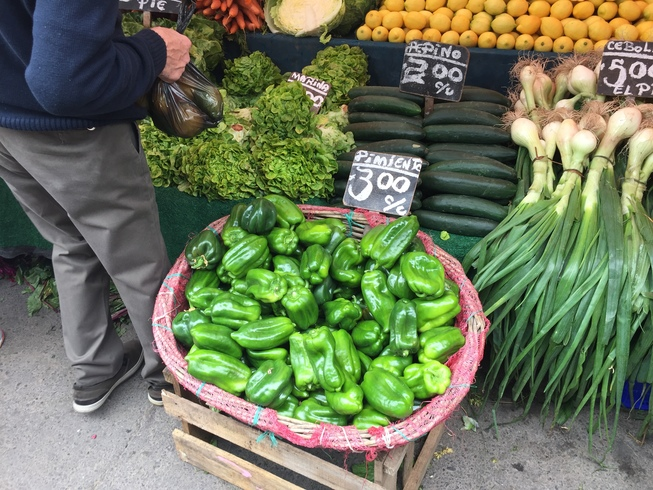precio: (345, 146, 426, 231), (399, 35, 474, 113), (598, 36, 653, 104), (287, 67, 340, 122)
